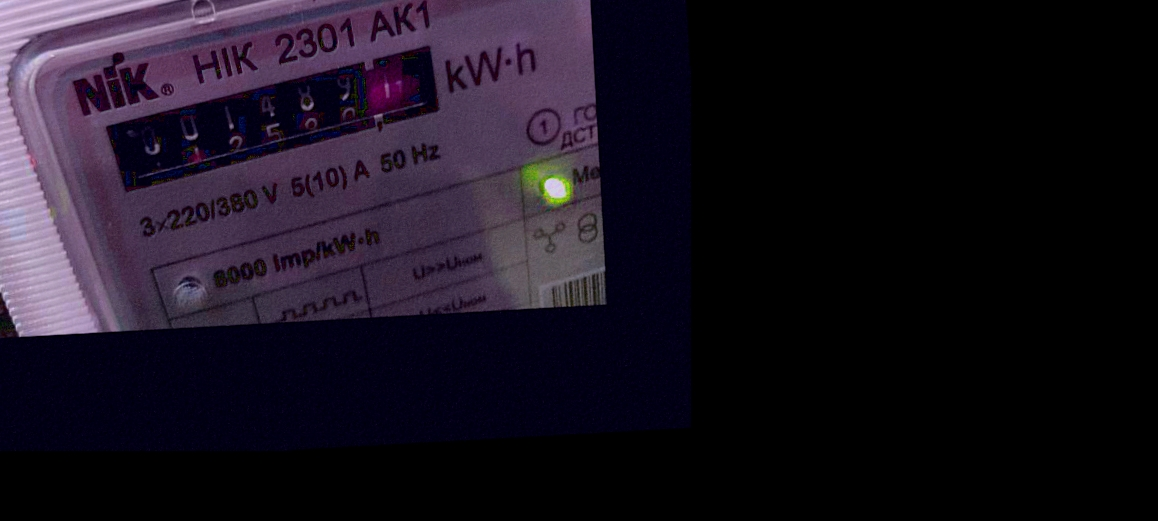0: (175, 106, 202, 143), (137, 122, 163, 158)
1: (375, 63, 397, 102), (218, 100, 240, 132)
4: (256, 87, 279, 120)
8: (295, 77, 318, 114)
9: (334, 69, 355, 102)
screen: (90, 33, 473, 204)
